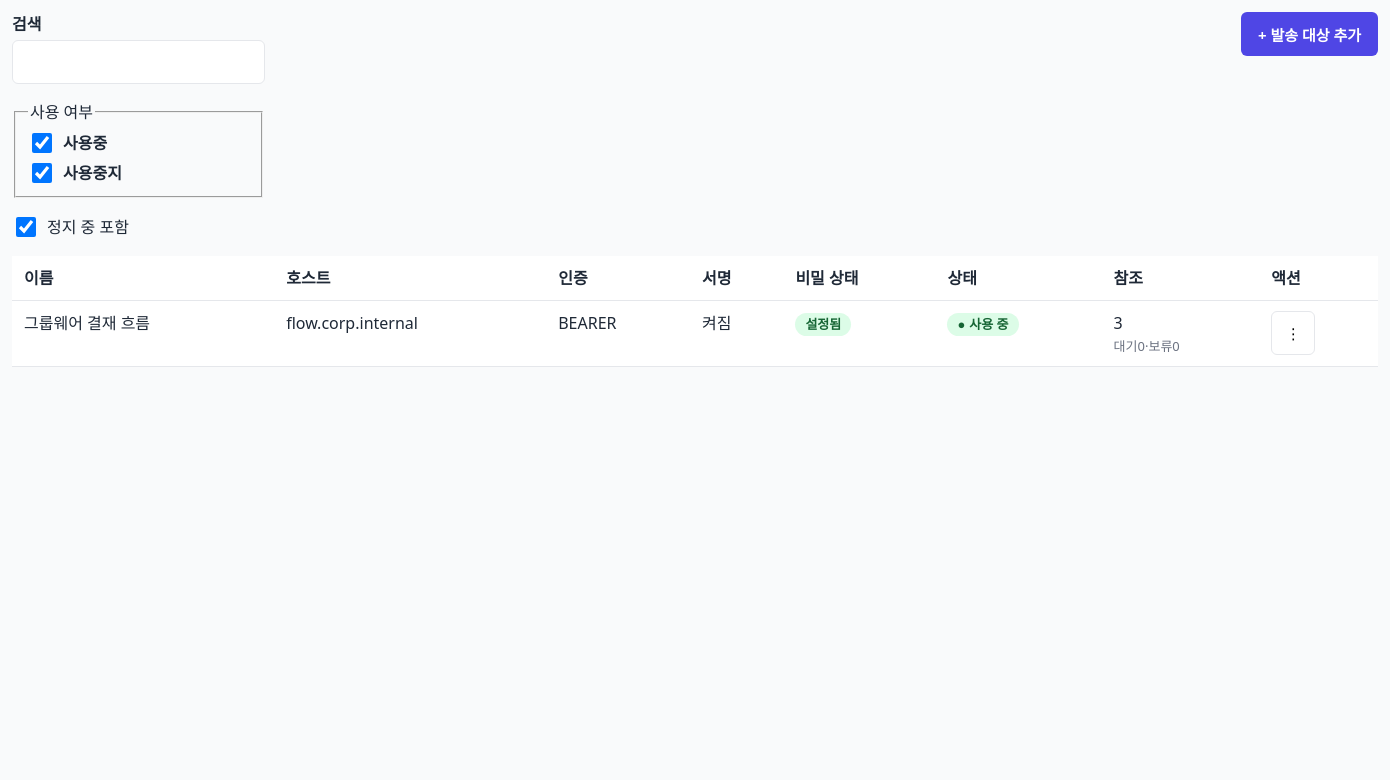
WorkflowTargetsPage › 일시 정지 클릭 시 확인 없이 즉시 반영되고 토스트가 뜬다
The width and height of the screenshot is (1390, 780).
Click the button named "관리".
click(1293, 333)  # box [1271,311,1315,355]
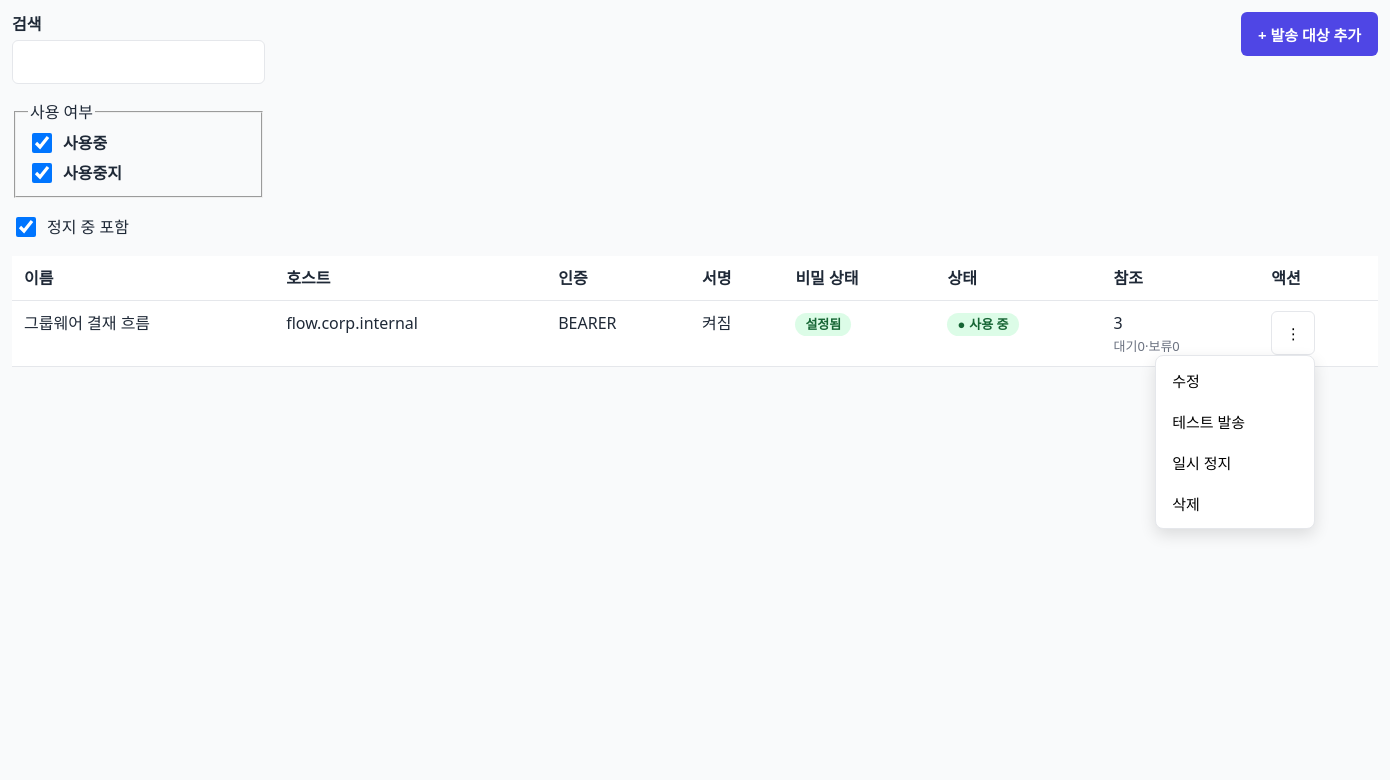
Click the menu item "일시 정지".
click(1235, 462)  # box [1160,442,1310,483]
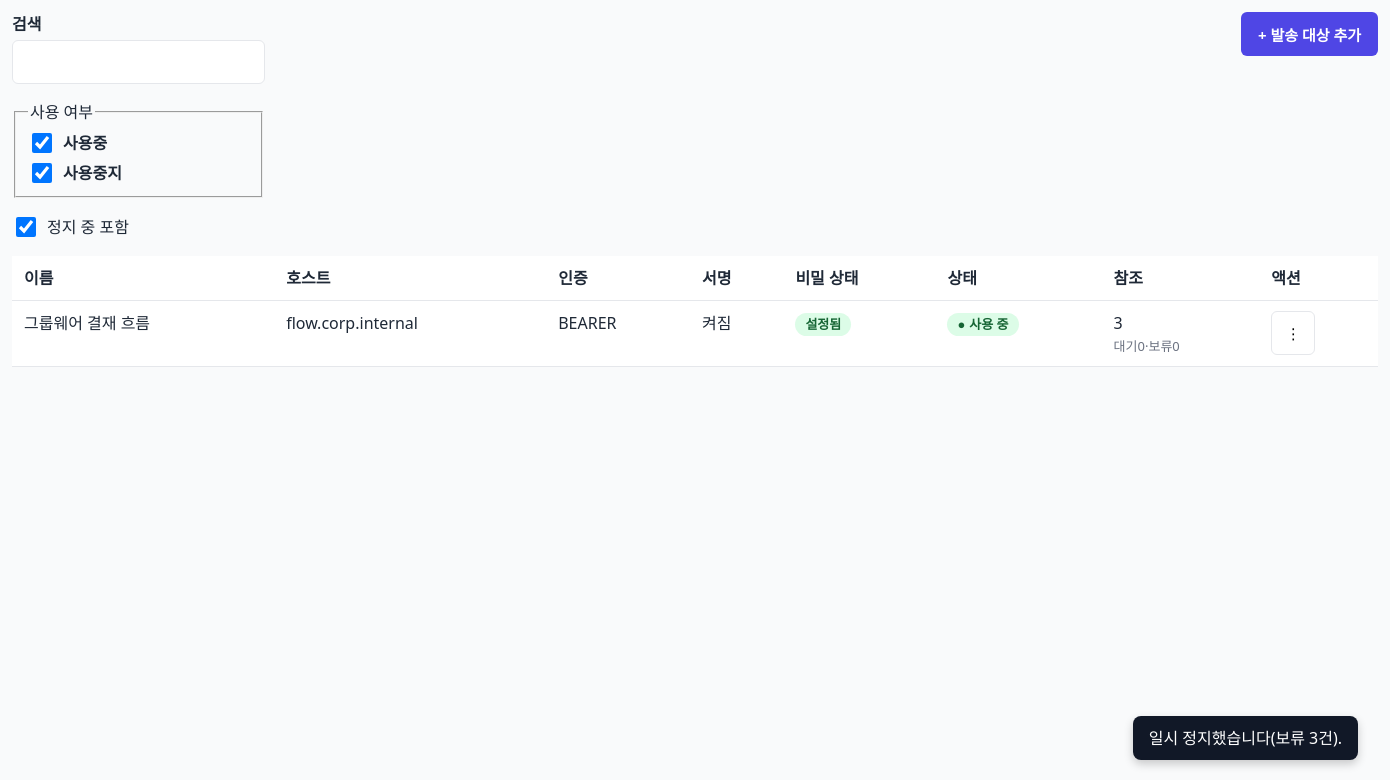
Now the text "일시 정지했습니다(보류 3건)." is shown, box [1133,716,1358,760]
